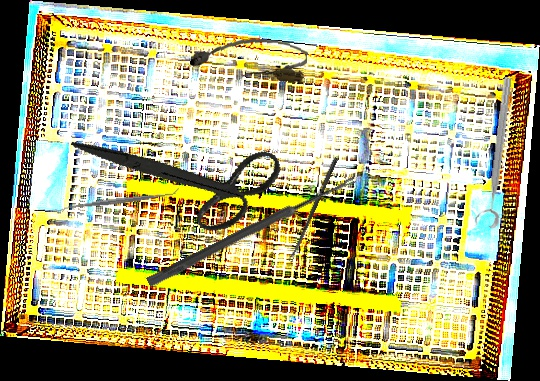Cannula: (189, 33, 309, 83)
Fixation Ring: (472, 75, 517, 229)
Iris Scissors: (70, 81, 294, 268)
Spatula Surgical: (60, 186, 181, 215)
Surgical Spoon: (145, 173, 358, 289), (287, 156, 339, 263)
